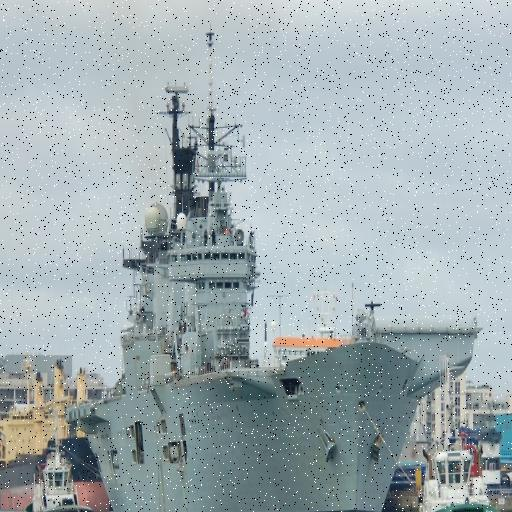Portanaves: (62, 16, 483, 512)
